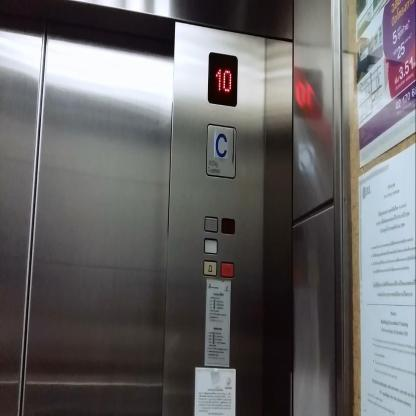alarm: (202, 258, 218, 277)
empty: (221, 216, 236, 234), (203, 236, 218, 254), (220, 260, 235, 278)
led: (207, 50, 238, 107)
speaker: (204, 214, 218, 232)
